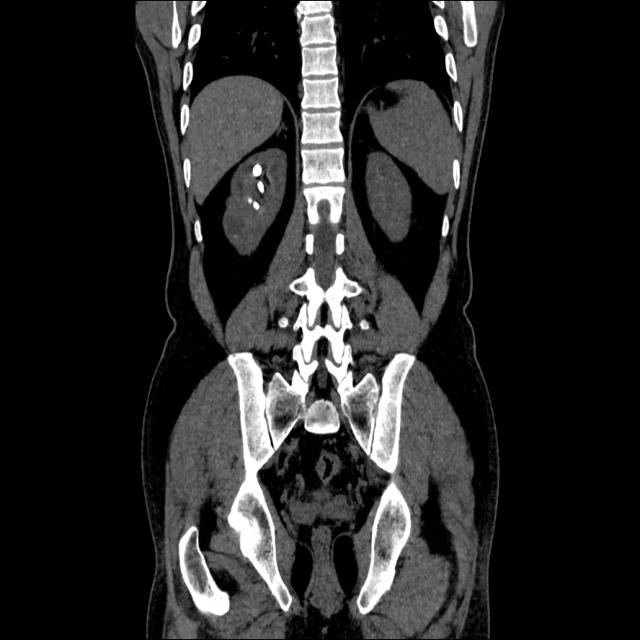kidneystone: (252, 164, 260, 177), (252, 201, 260, 209), (259, 185, 264, 192)
